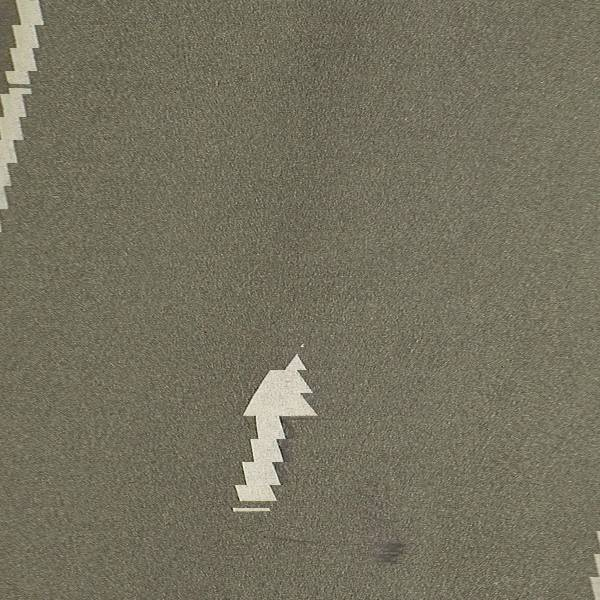road_damage: (368, 531, 411, 575)
